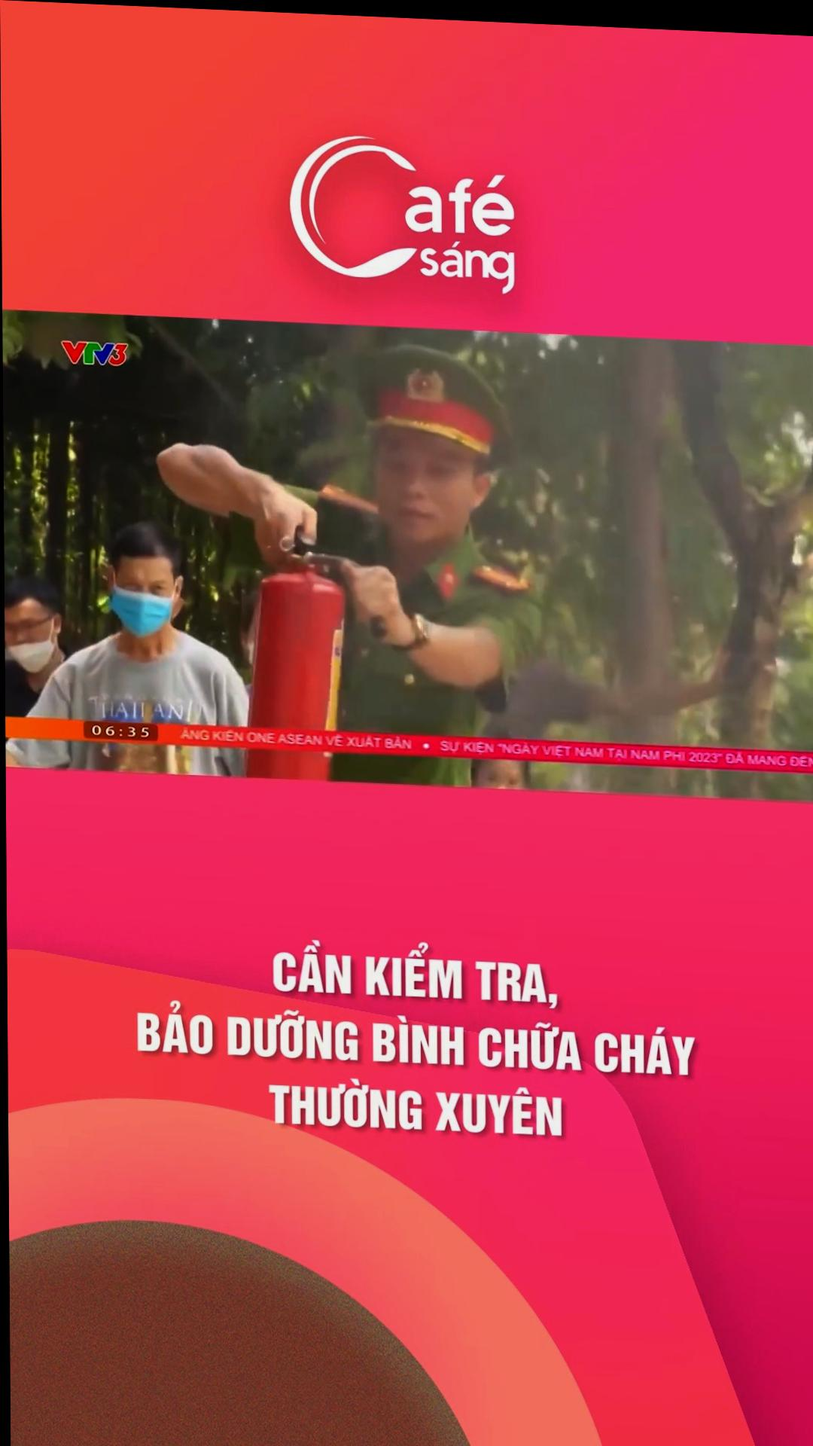FireExtinguisher: (233, 540, 359, 808)
